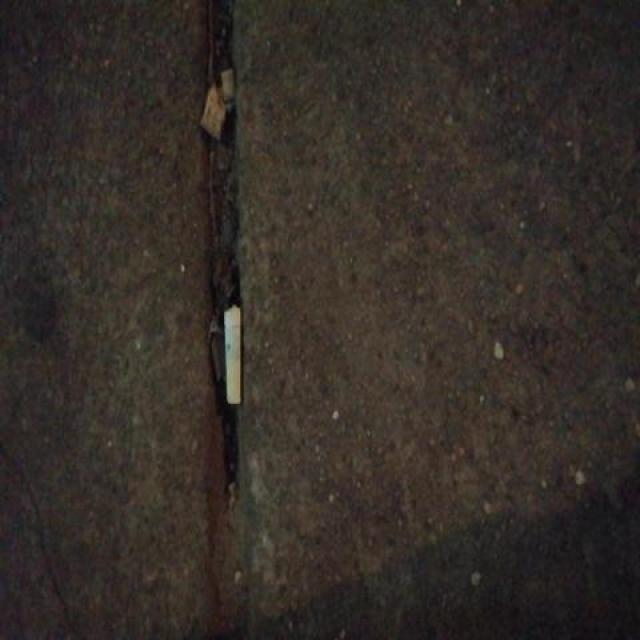non-organic waste: (220, 301, 244, 411)
